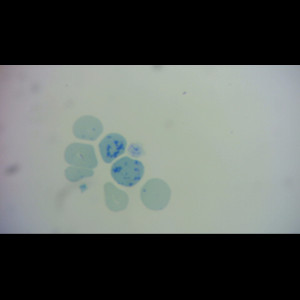aggregate reticulocyte: (109, 155, 146, 188), (97, 131, 128, 165)
erythrocyte: (62, 142, 100, 170), (102, 181, 132, 213)
punctate reticulocyte: (139, 177, 173, 211), (70, 114, 105, 143), (62, 164, 97, 184)
